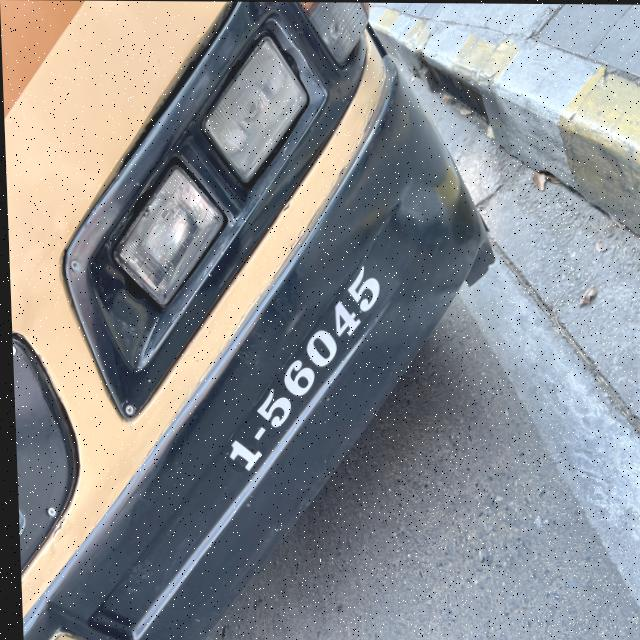BMTA-bus: (0, 0, 499, 640)
Bus Side Number: (212, 238, 396, 487)
